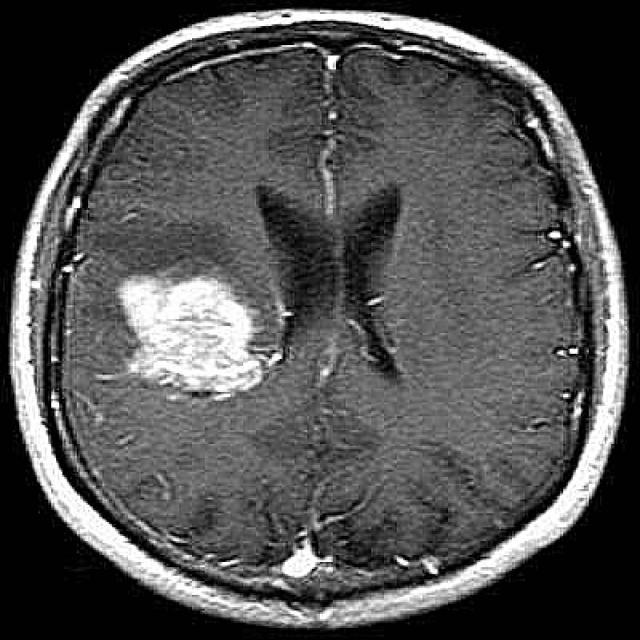Tumor-Cell: (123, 261, 265, 416)
